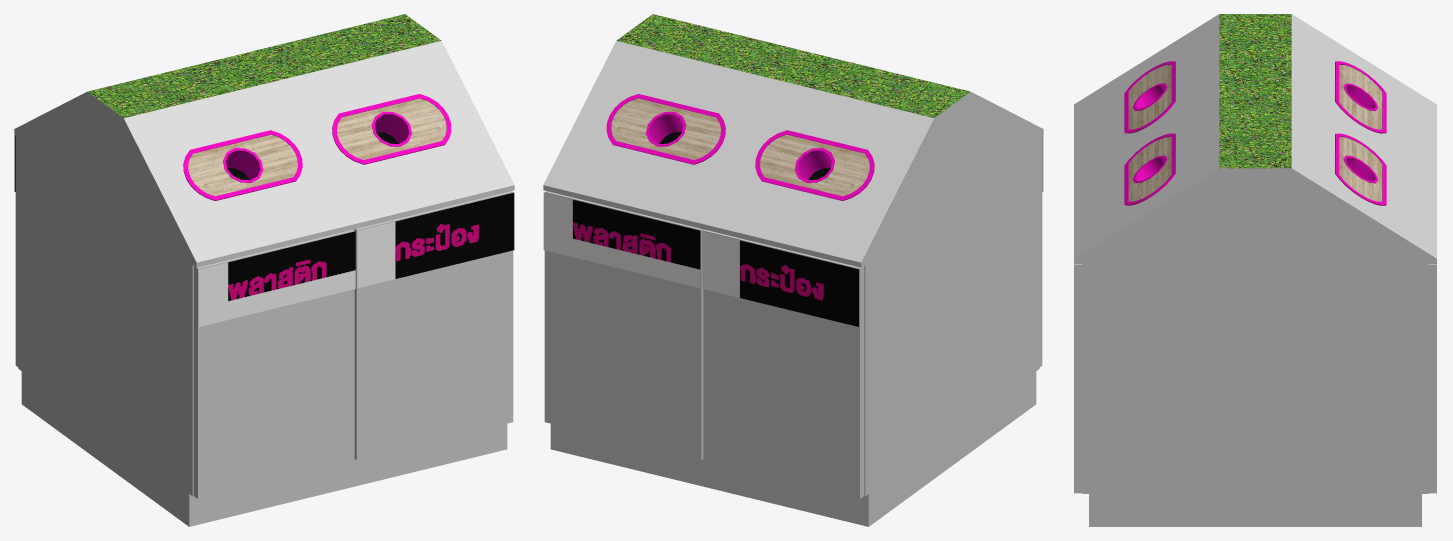
The model's file is Bin.fbx.
3 views of the same model, side by side, from view 1: azimuth 30°, elevation 25°; view 2: azimuth 150°, elevation 25°; view 3: azimuth 270°, elevation 25° (orthographic).
Parts seen in each view (by area): view 1: bin01; view 2: bin01; view 3: bin01.
Boxes of the visible parts, x1=… form: bin01: x1=14, y1=14, x2=514, y2=526; bin01: x1=543, y1=14, x2=1043, y2=526; bin01: x1=1074, y1=14, x2=1436, y2=526.
Size of the model in its own units: 101 by 109 by 101.
